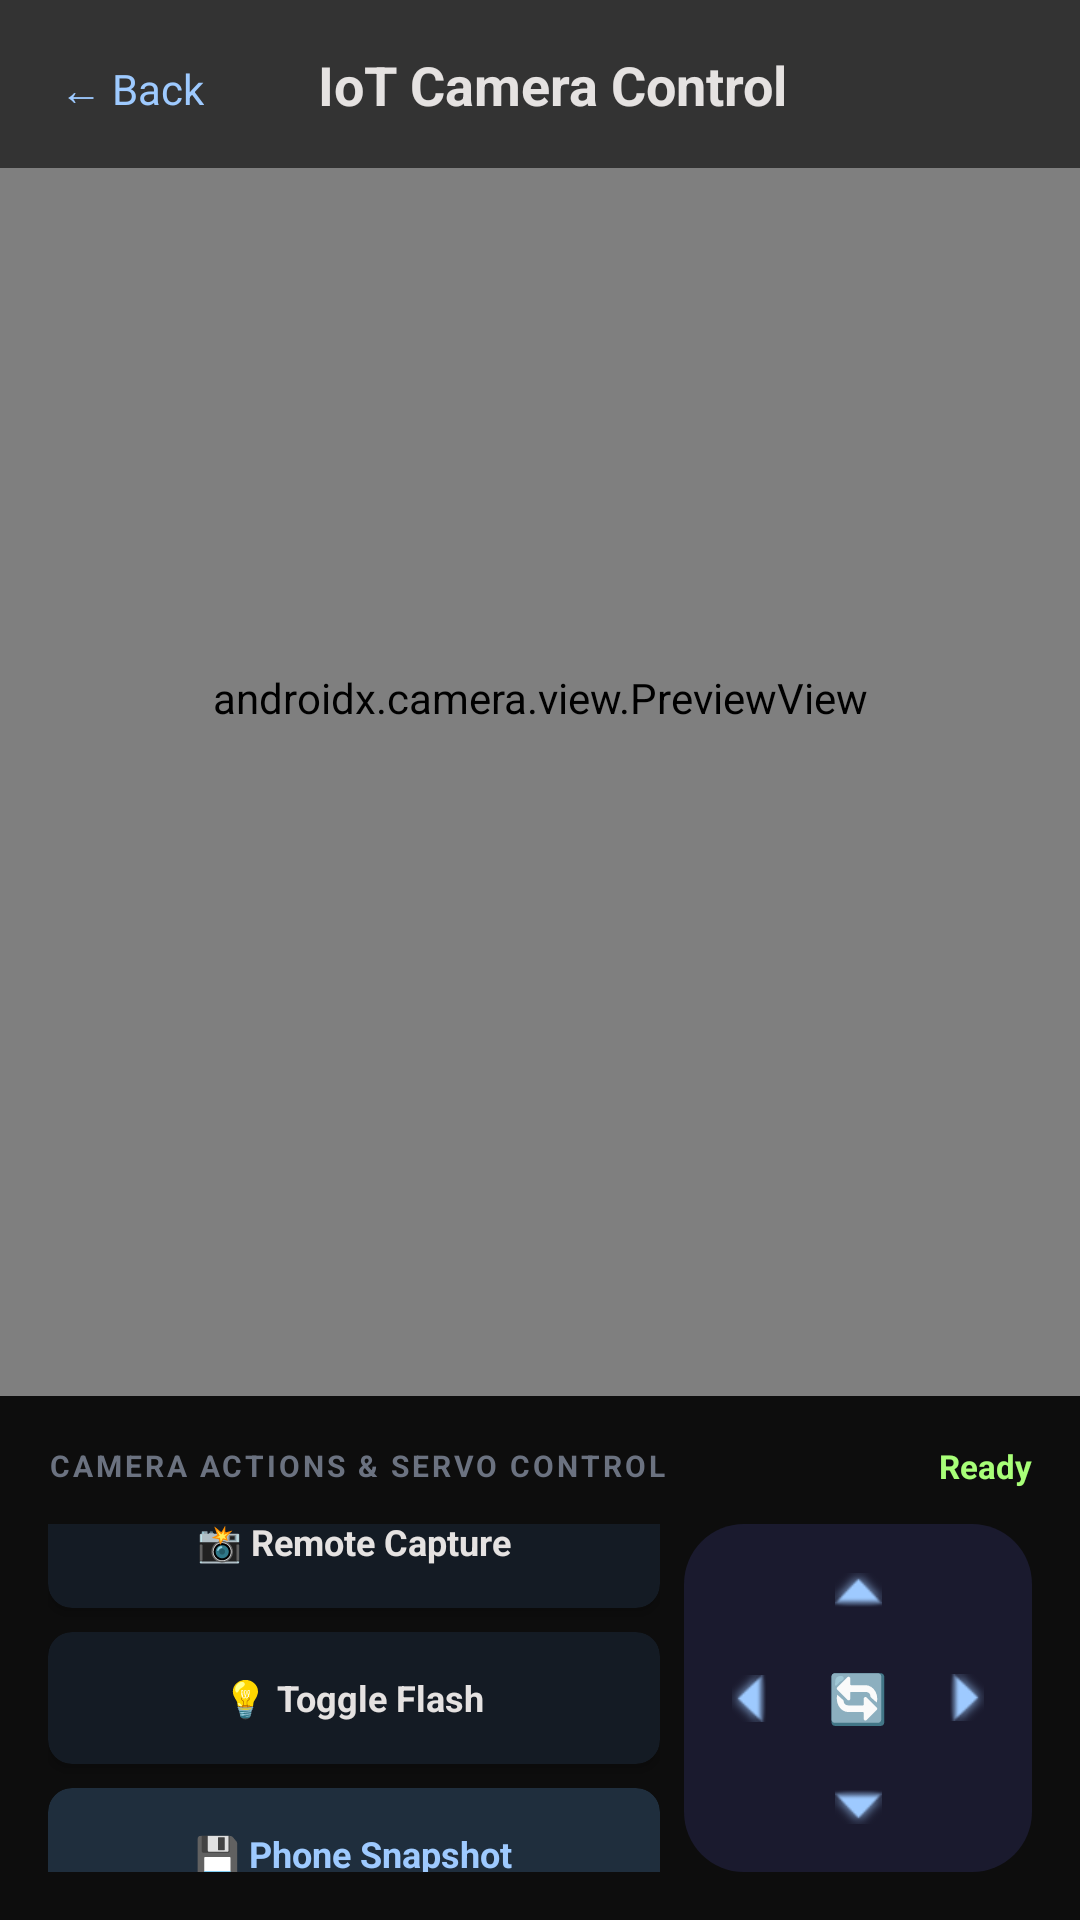

Icon bounding boxes for this 1080px x 1920px phone screenshot, format detection(x1, y1, x2, y2):
Tilt Down: detection(835, 1791, 882, 1822)
Tilt Up: detection(835, 1575, 882, 1606)
